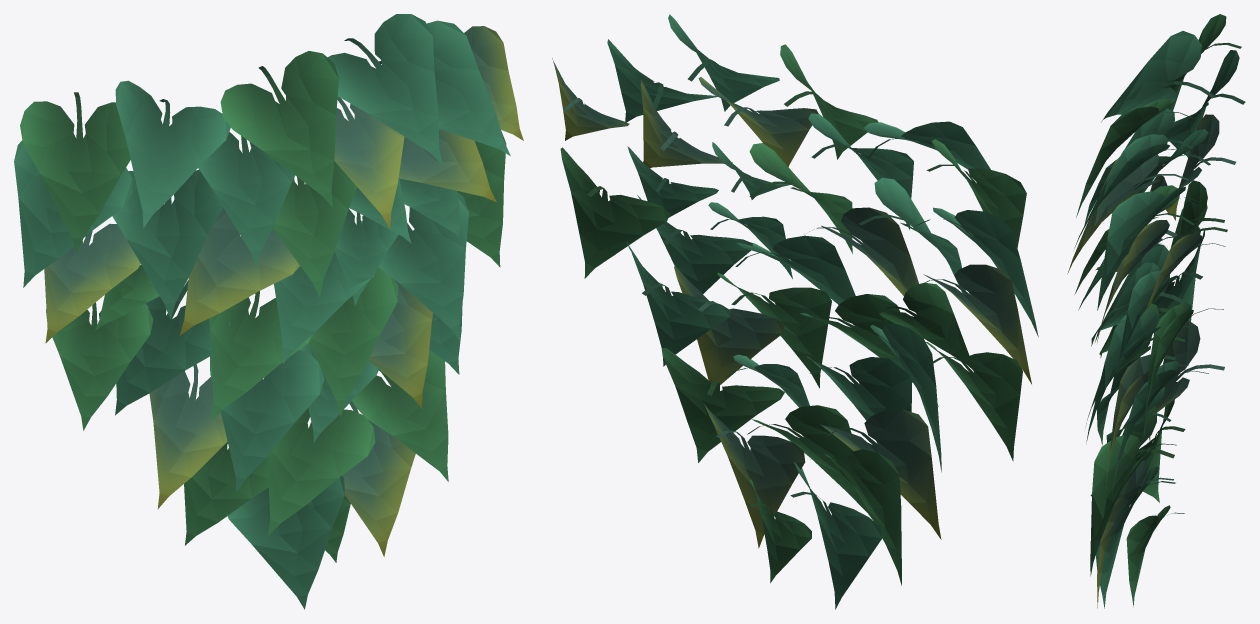
File: Jungle_Ivy_A.fbx
3 views of the same model, side by side, from view 1: azimuth 30°, elevation 25°; view 2: azimuth 150°, elevation 25°; view 3: azimuth 270°, elevation 25° (orthographic). The views are drawn at different scales.
Parts seen in each view (by area): view 1: Jungle_Ivy_A; view 2: Jungle_Ivy_A; view 3: Jungle_Ivy_A.
Boxes of the visible parts, x1,y1,x2,y2 form: Jungle_Ivy_A: [14, 14, 523, 609]; Jungle_Ivy_A: [552, 14, 1038, 609]; Jungle_Ivy_A: [1067, 14, 1245, 608].
Size of the model in its own units: 2.76 by 3.03 by 0.9333.
